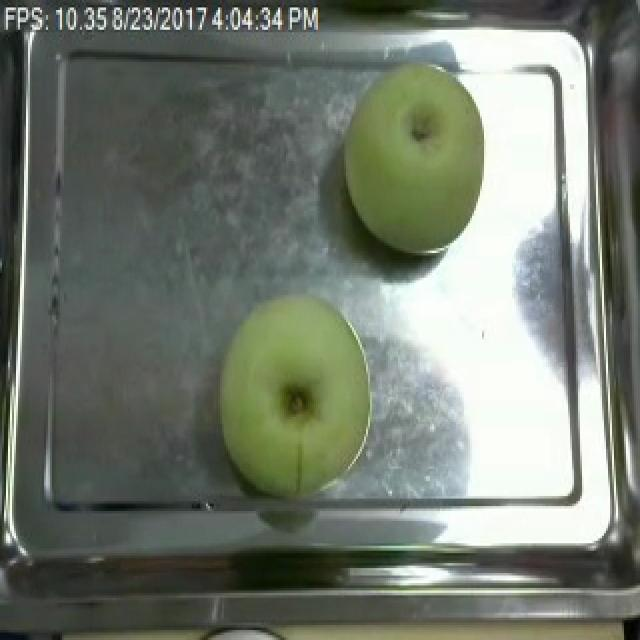50-_ripeness: (219, 276, 372, 506), (346, 59, 488, 273)
